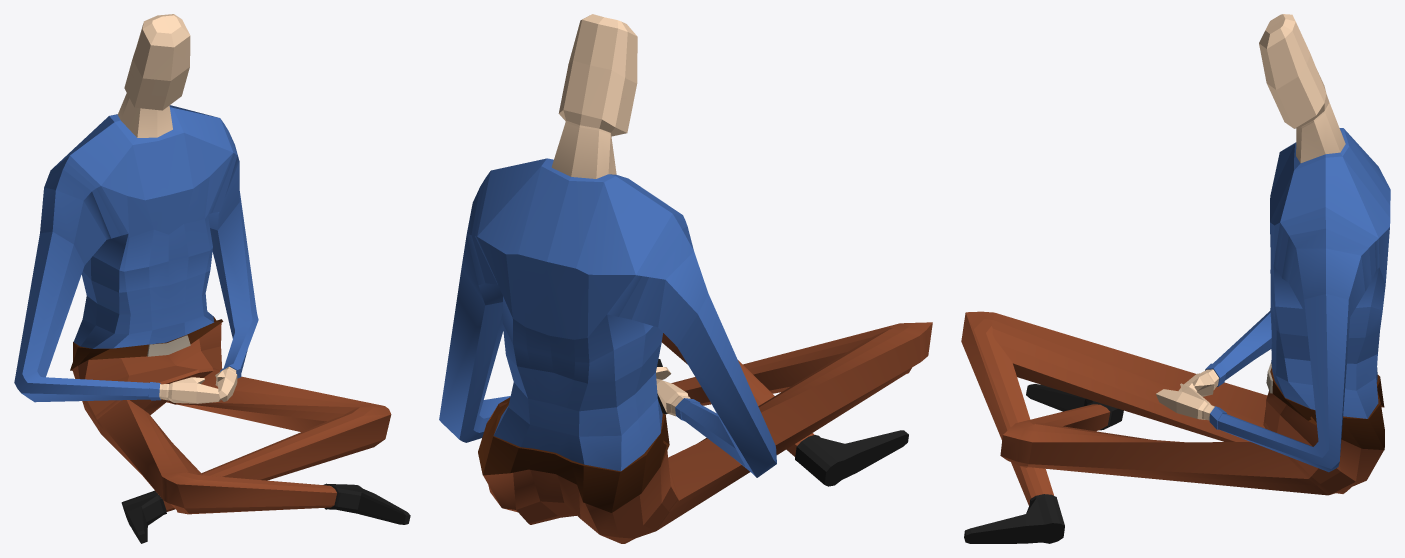
The model's file is Tall_Man_Sitting.fbx.
3 renders of one model, left to right at view 1: azimuth 30°, elevation 25°; view 2: azimuth 150°, elevation 25°; view 3: azimuth 270°, elevation 25°, orthographic. The views are drawn at different scales.
Visible parts, largest first — view 1: Tall_Character; view 2: Tall_Character; view 3: Tall_Character.
Part boxes in pixels (x1,y1,x2,y2): Tall_Character: [14, 14, 410, 543]; Tall_Character: [439, 14, 932, 543]; Tall_Character: [961, 14, 1390, 543].
Bounding box in the file's own units: 27.8 × 44.68 × 36.22.
1 material, 1 textured.
